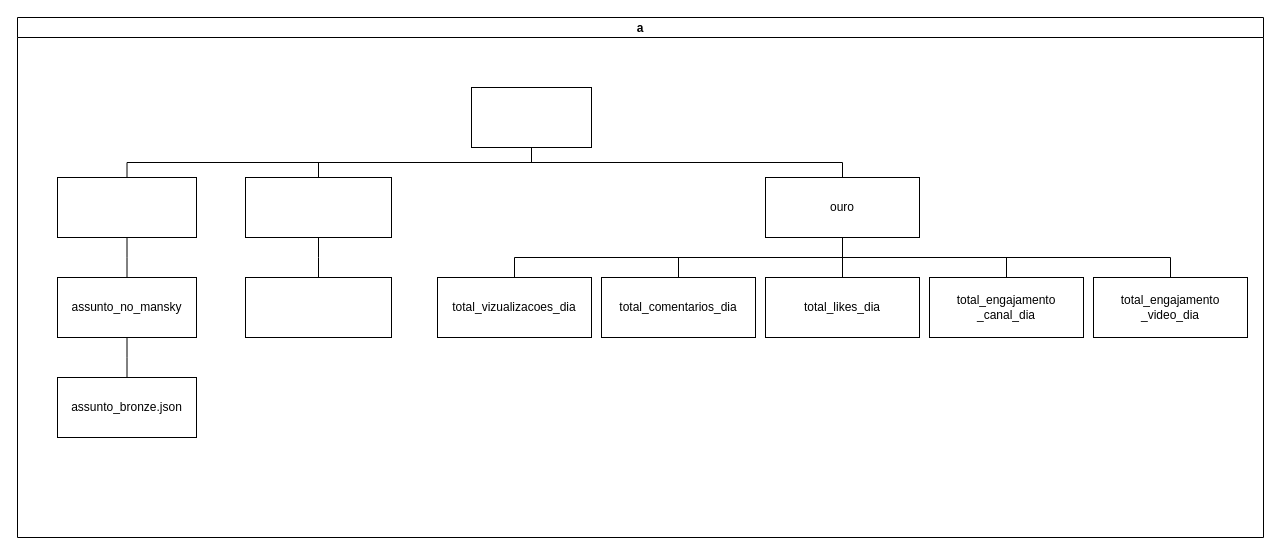
This 1281x555 diagram has some shape labels left out. The centre of each missing label's shape, as x and y in pixels:
"bronze" belongs at pixel 126 207.
"datalake" belongs at pixel 531 117.
"prata" belongs at pixel 318 207.
"prata.parquet" belongs at pixel 318 307.
